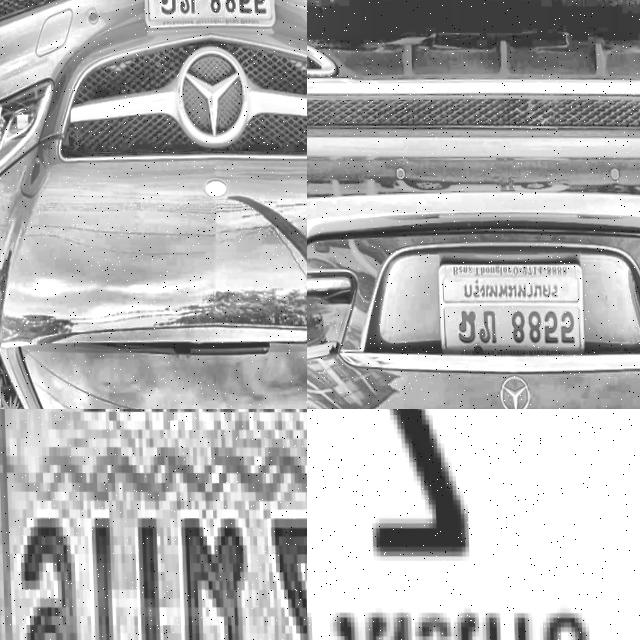license-plate: (307, 409, 640, 640), (0, 409, 307, 640), (436, 256, 584, 357), (141, 0, 274, 28)
